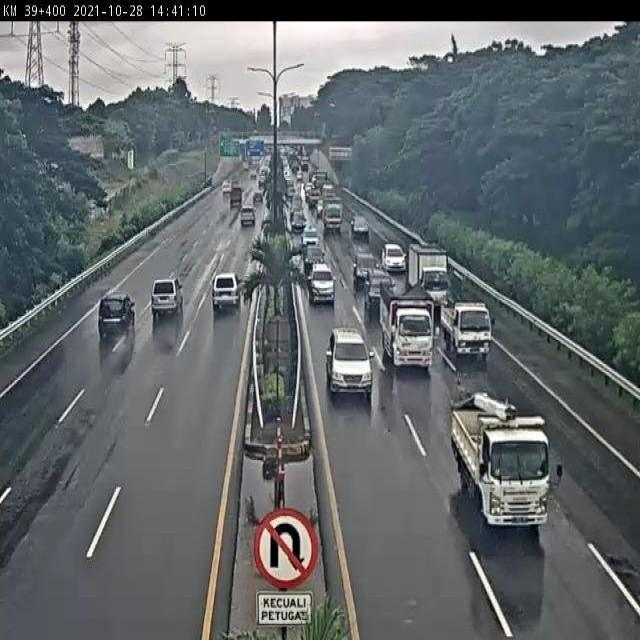car: (326, 326, 373, 398), (307, 260, 337, 309), (364, 267, 394, 309), (352, 250, 378, 286), (381, 241, 406, 272)
mid truck: (97, 292, 136, 336), (150, 278, 185, 318), (212, 271, 242, 312)
truck-m-: (453, 393, 549, 532), (379, 280, 434, 372)
truck-s-: (440, 298, 492, 362), (408, 244, 452, 303)
